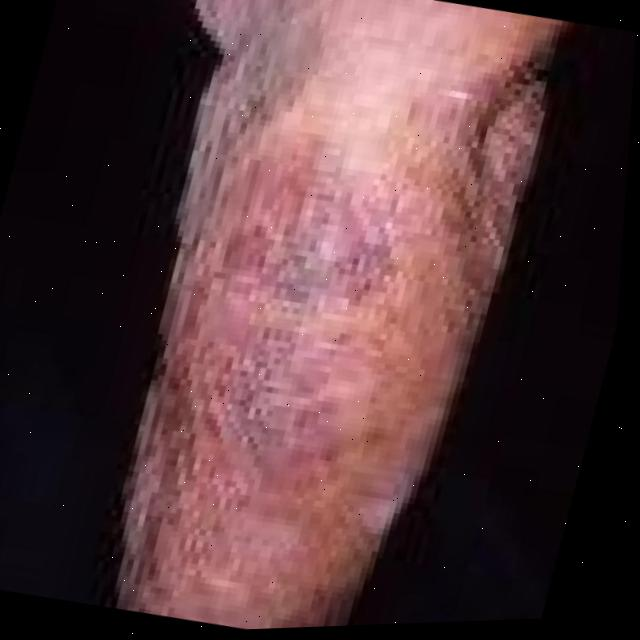Melasma: (154, 174, 431, 527)
